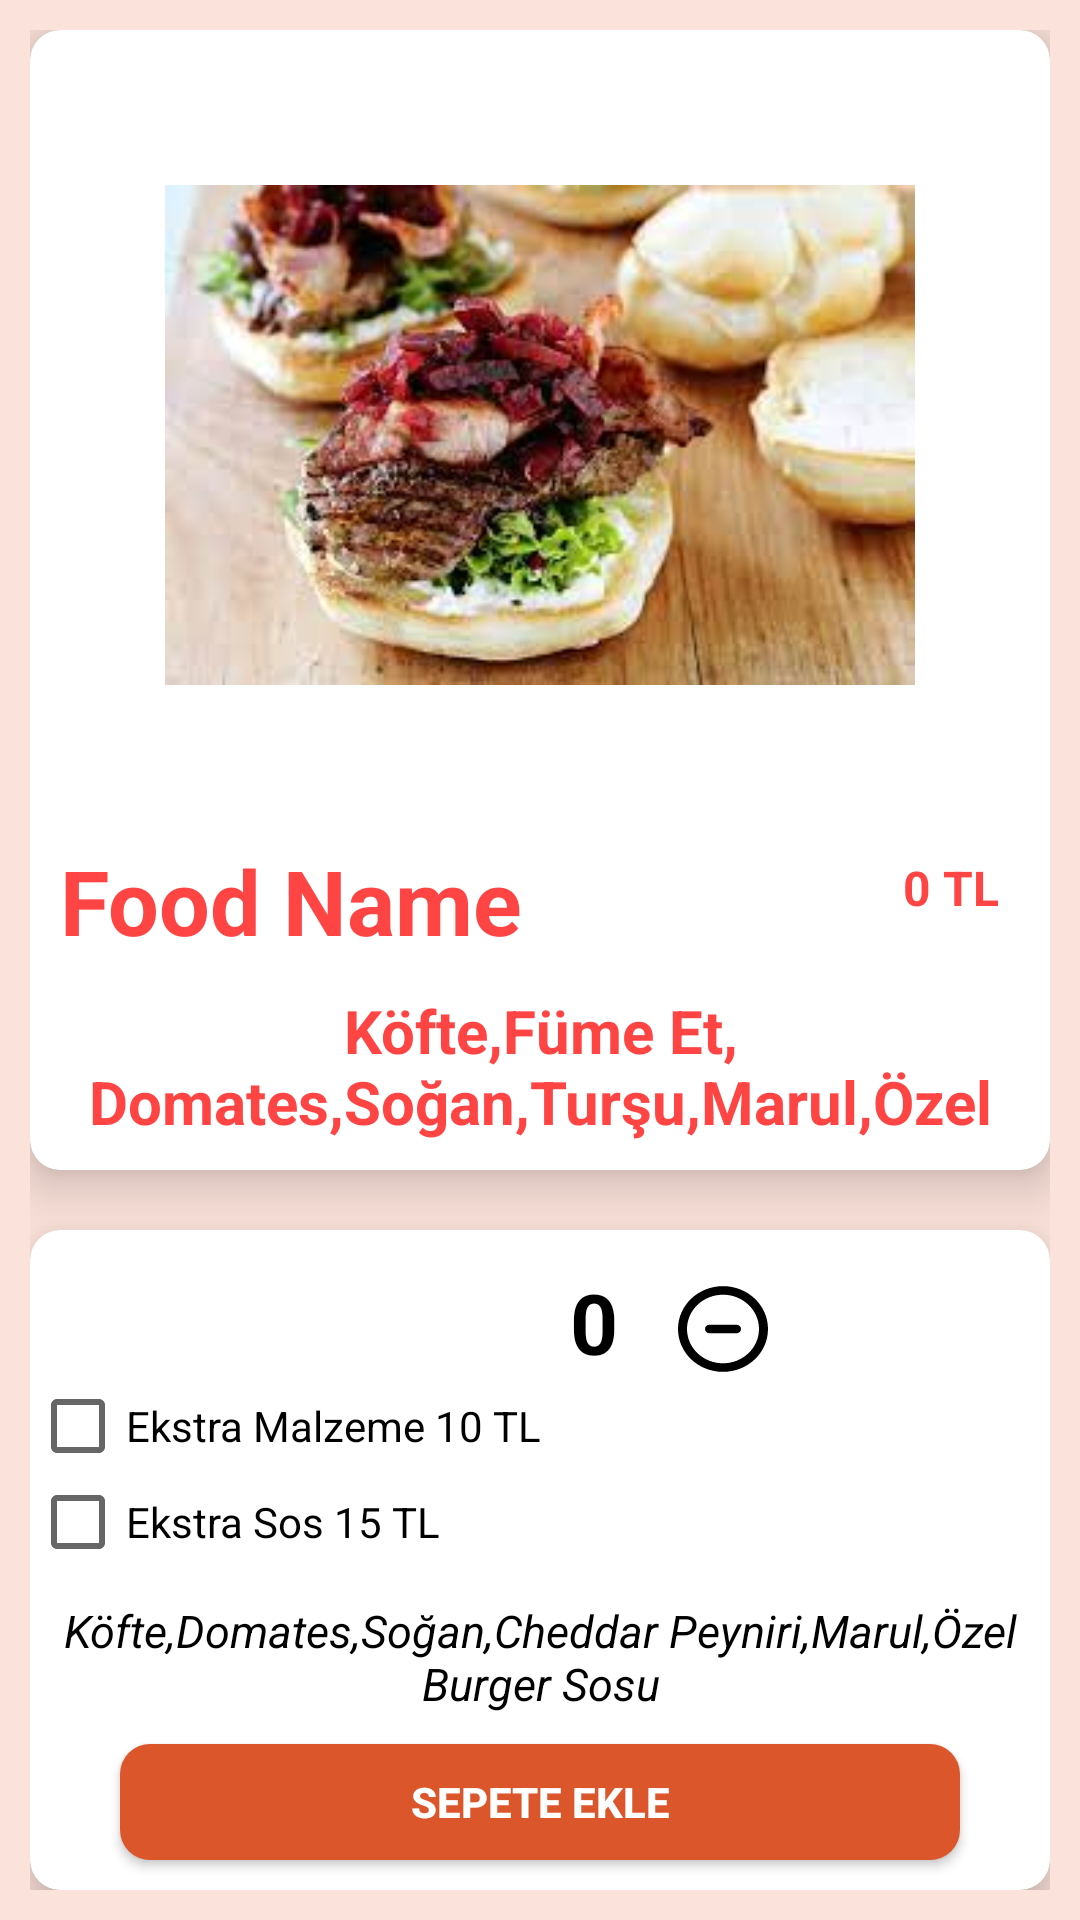

Named icons in this screenshot (1080px×1920px) and their centers, point (x, y):
minuss: point (723, 1329)
